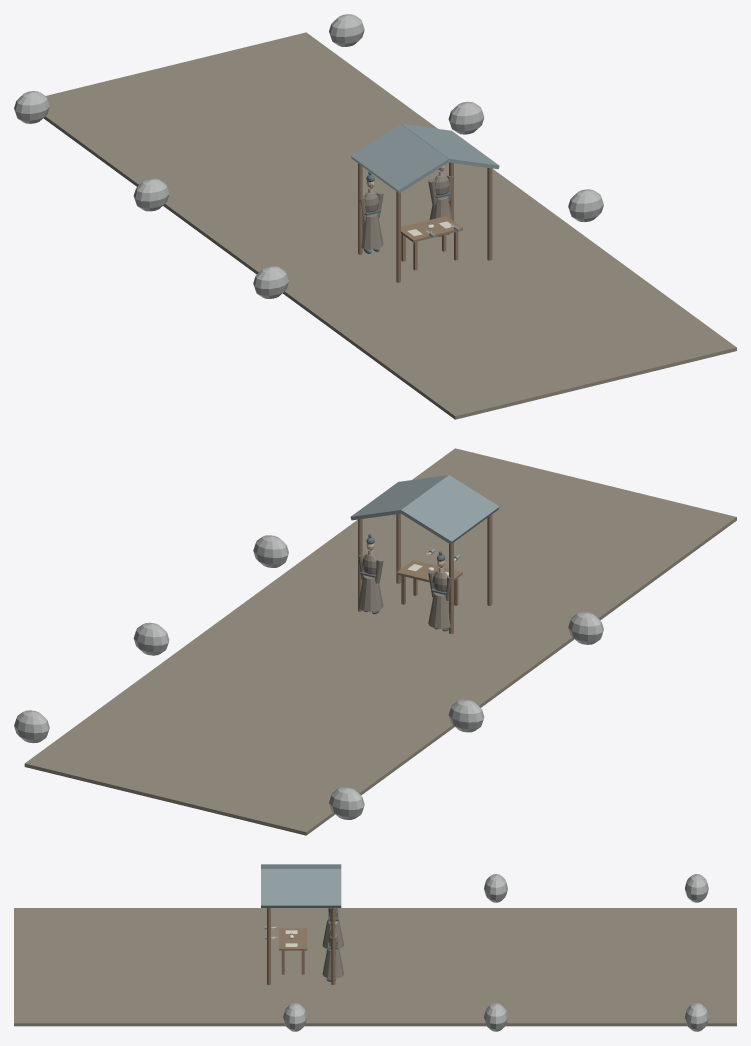
The picture shows the model from 3 angles, top to bottom: view 1: azimuth 30°, elevation 25°; view 2: azimuth 150°, elevation 25°; view 3: azimuth 270°, elevation 25°; orthographic projection. The views are drawn at different scales.
Visible parts, largest first — view 1: roadbed (×6), rock (×6), roof_left, roof_right, tabletop, robe_skirt; view 2: roadbed (×6), rock (×6), roof_left, roof_right, robe_skirt (×2); view 3: roadbed (×6), roof_right, rock (×5), post (×2), tabletop, robe_skirt, roof_left.
Boxes of the visible parts, x1,y1,x2,y2 form: roadbed (×6): (43, 32, 736, 419); rock (×6): (14, 14, 603, 298); roof_left: (350, 124, 449, 193); roof_right: (401, 124, 499, 169); tabletop: (401, 216, 462, 242); robe_skirt: (361, 213, 383, 249); roadbed (×6): (24, 448, 736, 835); rock (×6): (14, 535, 603, 819); roof_left: (400, 475, 499, 544); roof_right: (350, 475, 448, 520); robe_skirt (×2): (358, 575, 450, 628); roadbed (×6): (14, 908, 736, 1026); roof_right: (261, 869, 341, 907); rock (×5): (283, 874, 708, 1031); post (×2): (267, 908, 335, 984); tabletop: (279, 928, 307, 950); robe_skirt: (322, 948, 343, 978); roof_left: (261, 864, 341, 868).
Size of the model in its own units: 8.4 by 2.74 by 18.
